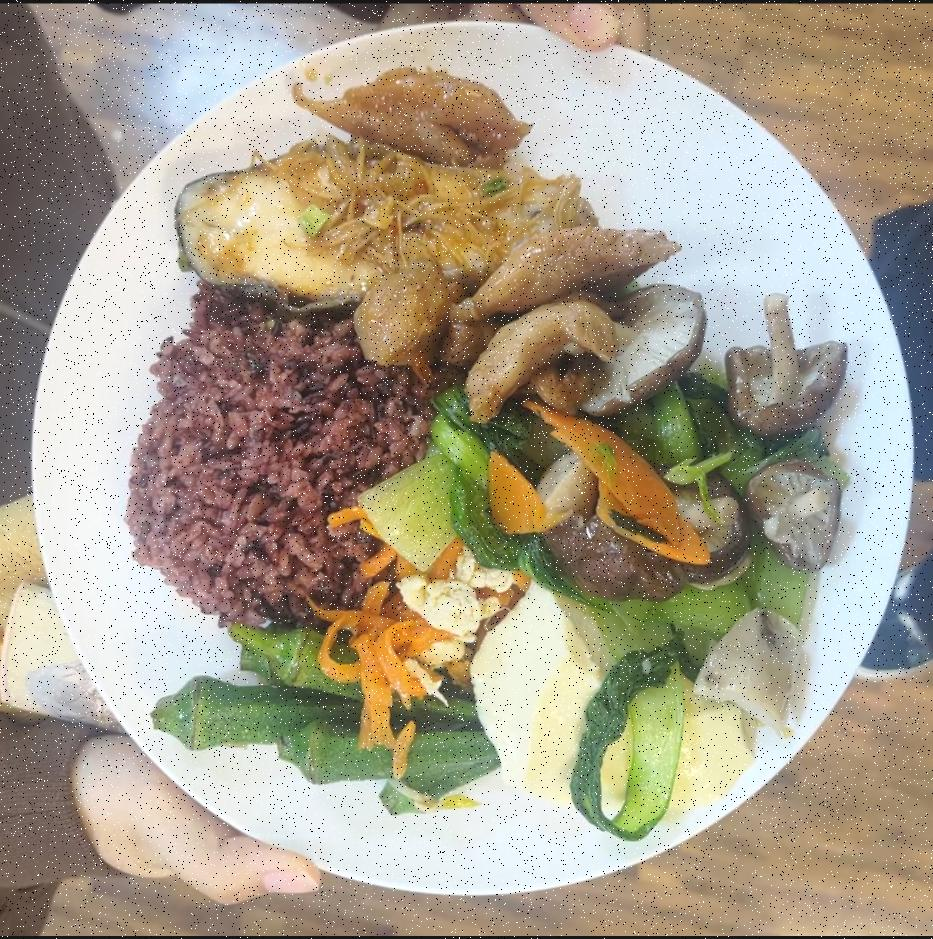big fried chicken leg: (11, 28, 916, 906)
braised fish: (112, 294, 426, 636)
braised fish fillet: (389, 383, 822, 824), (482, 293, 862, 589), (459, 588, 752, 820), (146, 616, 496, 793)
braised pork: (344, 225, 668, 408), (301, 66, 525, 170)
braised pork ribs: (170, 143, 602, 314)
